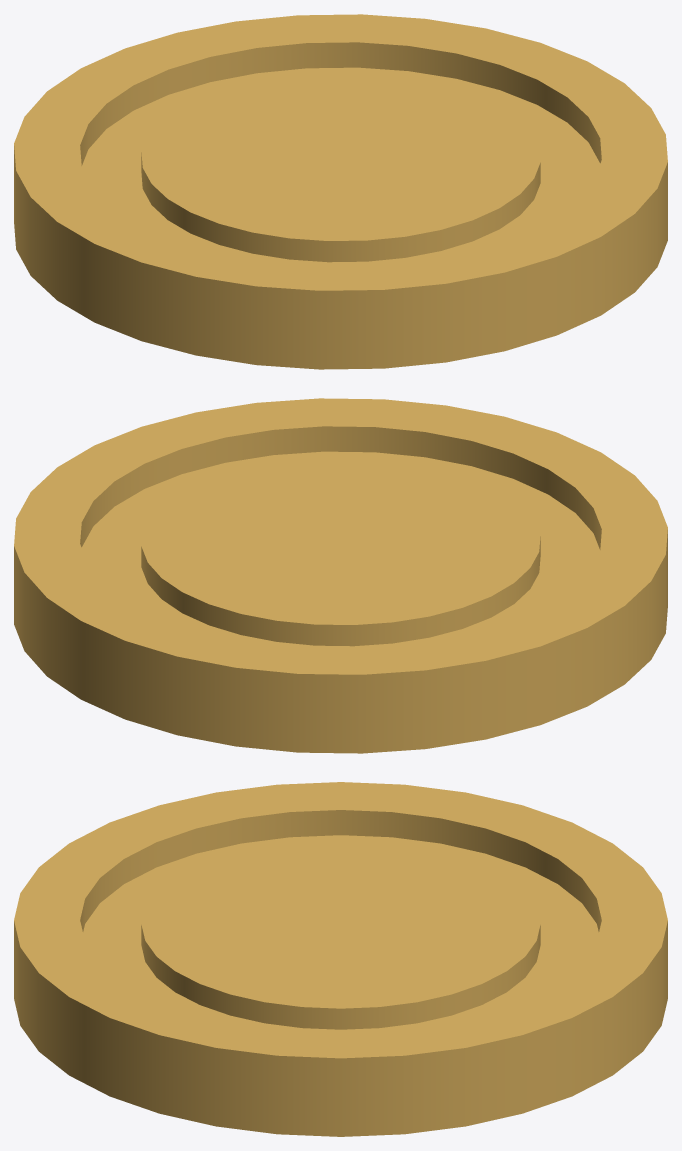
Rendered from coin.glb.
The picture shows the model from 3 angles, top to bottom: view 1: azimuth 30°, elevation 25°; view 2: azimuth 150°, elevation 25°; view 3: azimuth 270°, elevation 25°; orthographic projection.
Visible parts, largest first — view 1: Cylinder; view 2: Cylinder; view 3: Cylinder.
Boxes of the visible parts, x1,y1,x2,y2 form: Cylinder: (14,14,667,369); Cylinder: (14,398,667,753); Cylinder: (14,782,667,1136).
Bounding box in the file's own units: 2.54 × 0.3363 × 2.54.
